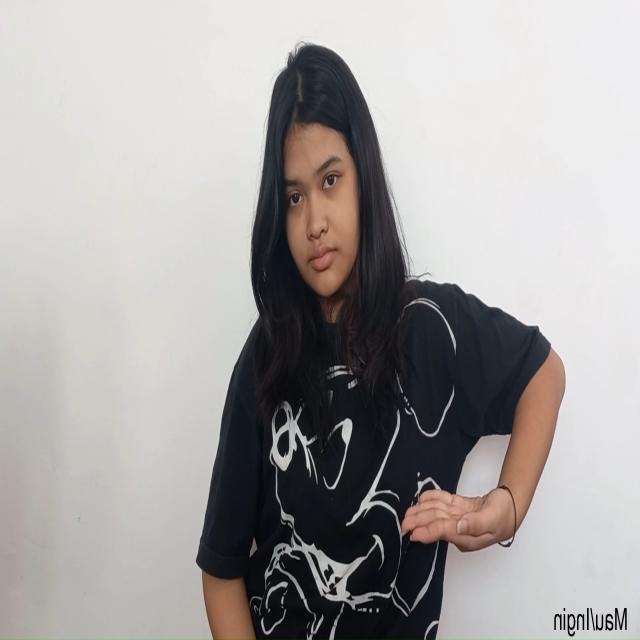Mau-Ingin -BISINDO-: (399, 486, 518, 557)
